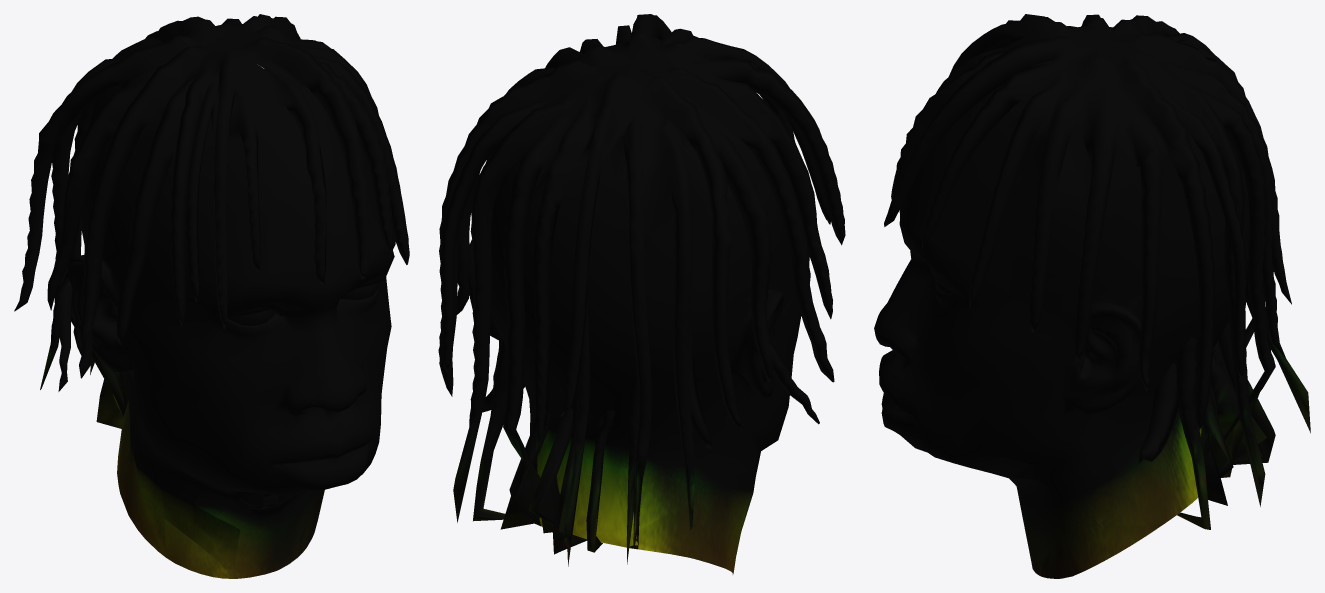
The model's file is MEL_14.glb.
3 renders of one model, left to right at view 1: azimuth 30°, elevation 25°; view 2: azimuth 150°, elevation 25°; view 3: azimuth 270°, elevation 25°, orthographic. The views are drawn at different scales.
Parts seen in each view (by area): view 1: ea07ef84_630c_4085_ac85_9de1d13b1219; view 2: ea07ef84_630c_4085_ac85_9de1d13b1219; view 3: ea07ef84_630c_4085_ac85_9de1d13b1219.
Part boxes in pixels (<box>): ea07ef84_630c_4085_ac85_9de1d13b1219: <box>14,14,409,578</box>; ea07ef84_630c_4085_ac85_9de1d13b1219: <box>438,14,845,574</box>; ea07ef84_630c_4085_ac85_9de1d13b1219: <box>874,14,1310,578</box>.
Bounding box in the file's own units: 0.2364 × 0.3583 × 0.2663.
Materials: 1 (1 with a texture image).
